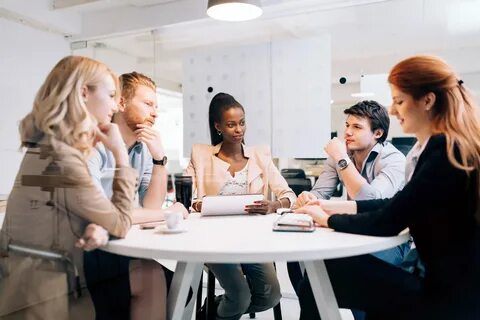awake: (1, 54, 136, 319), (387, 54, 479, 317), (182, 92, 297, 215), (87, 70, 169, 212), (307, 100, 406, 201)
